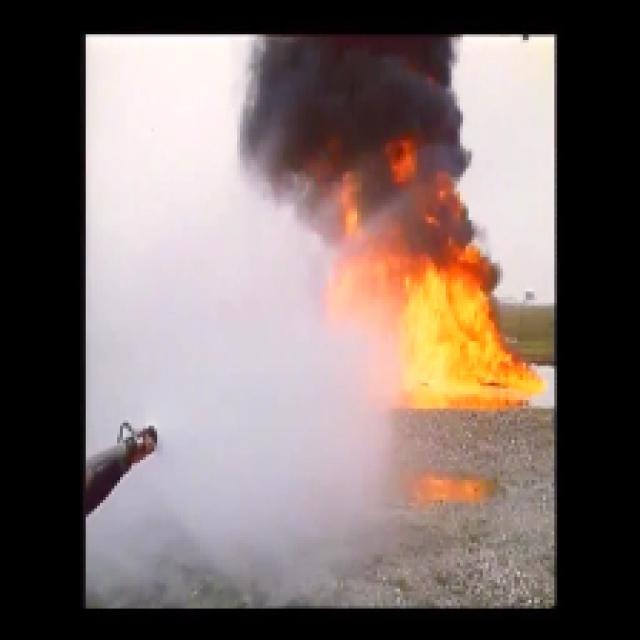fire: (373, 260, 541, 407)
smoke: (245, 41, 472, 164)
